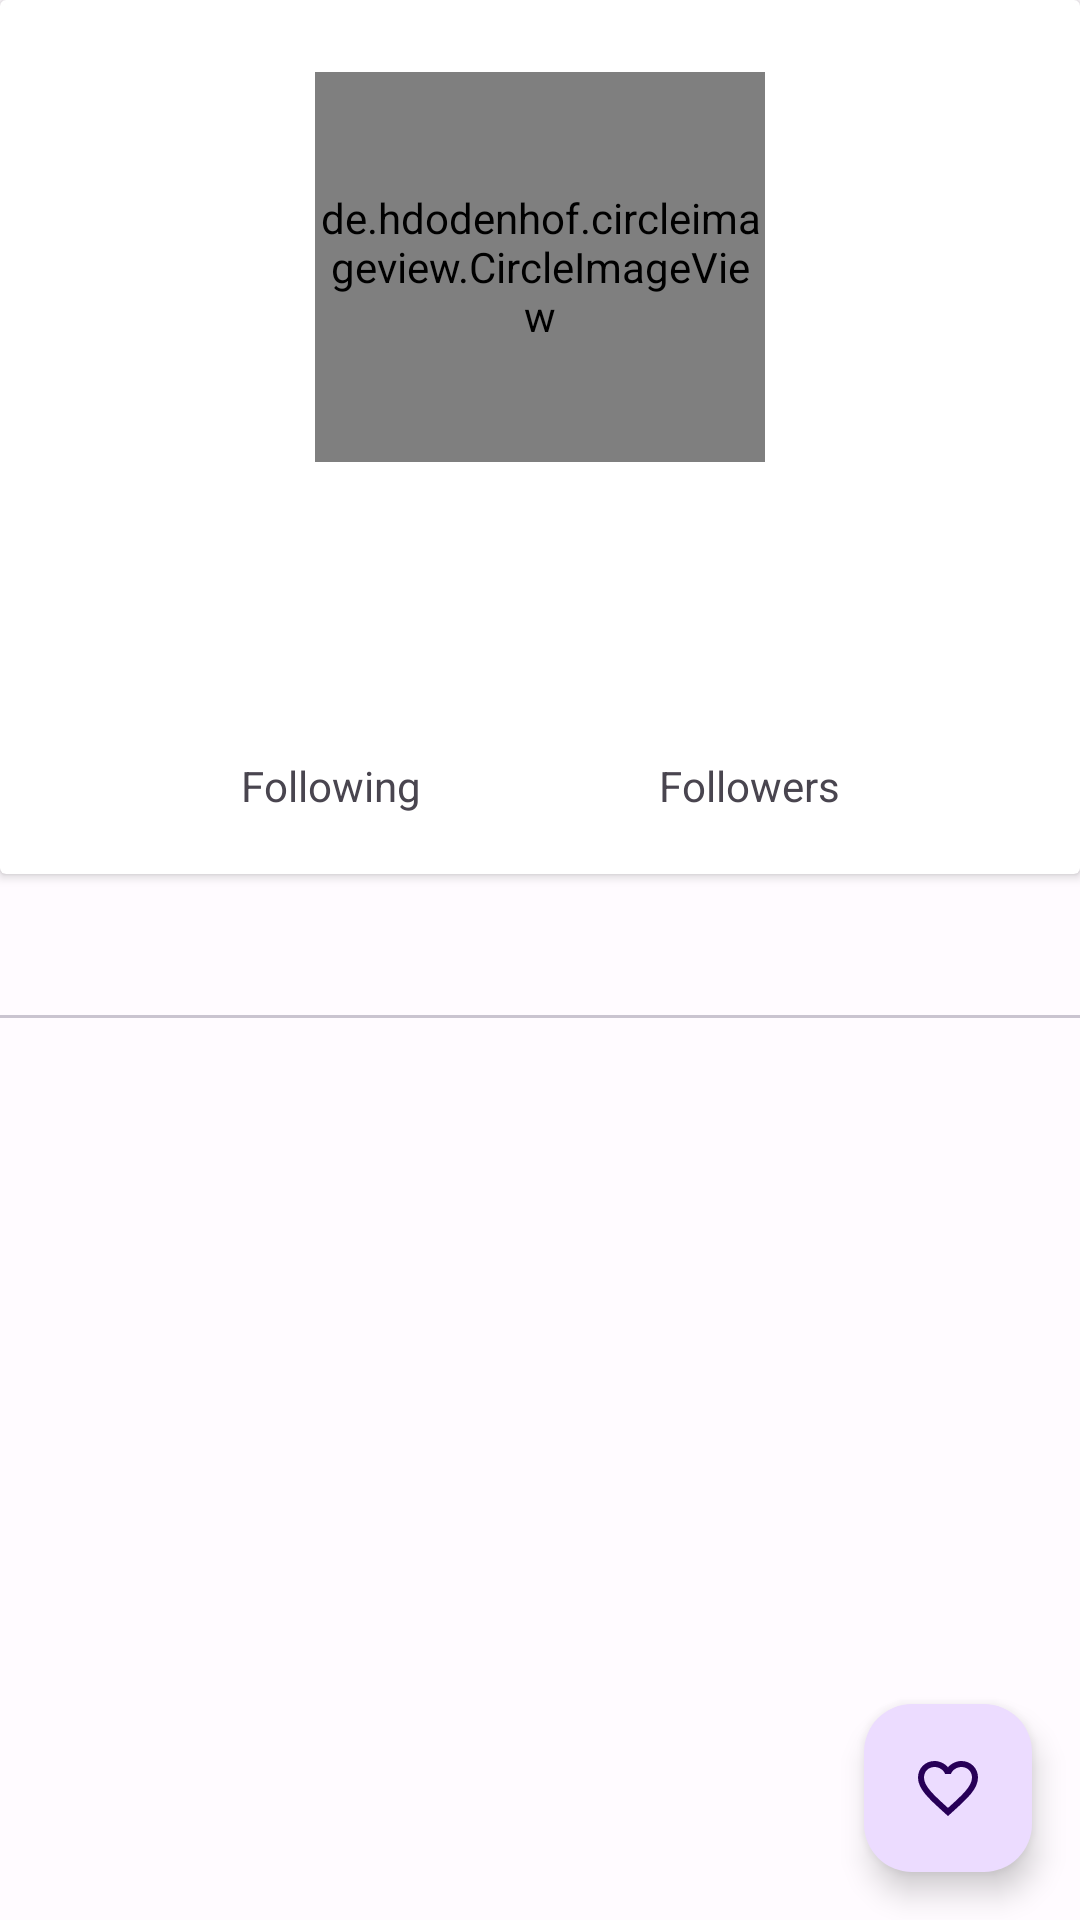

Named icons in this screenshot (1080px x 1920px) and their bounding boxes, (x1, y1, x2, y2):
favorite border: (864, 1704, 1032, 1872)
